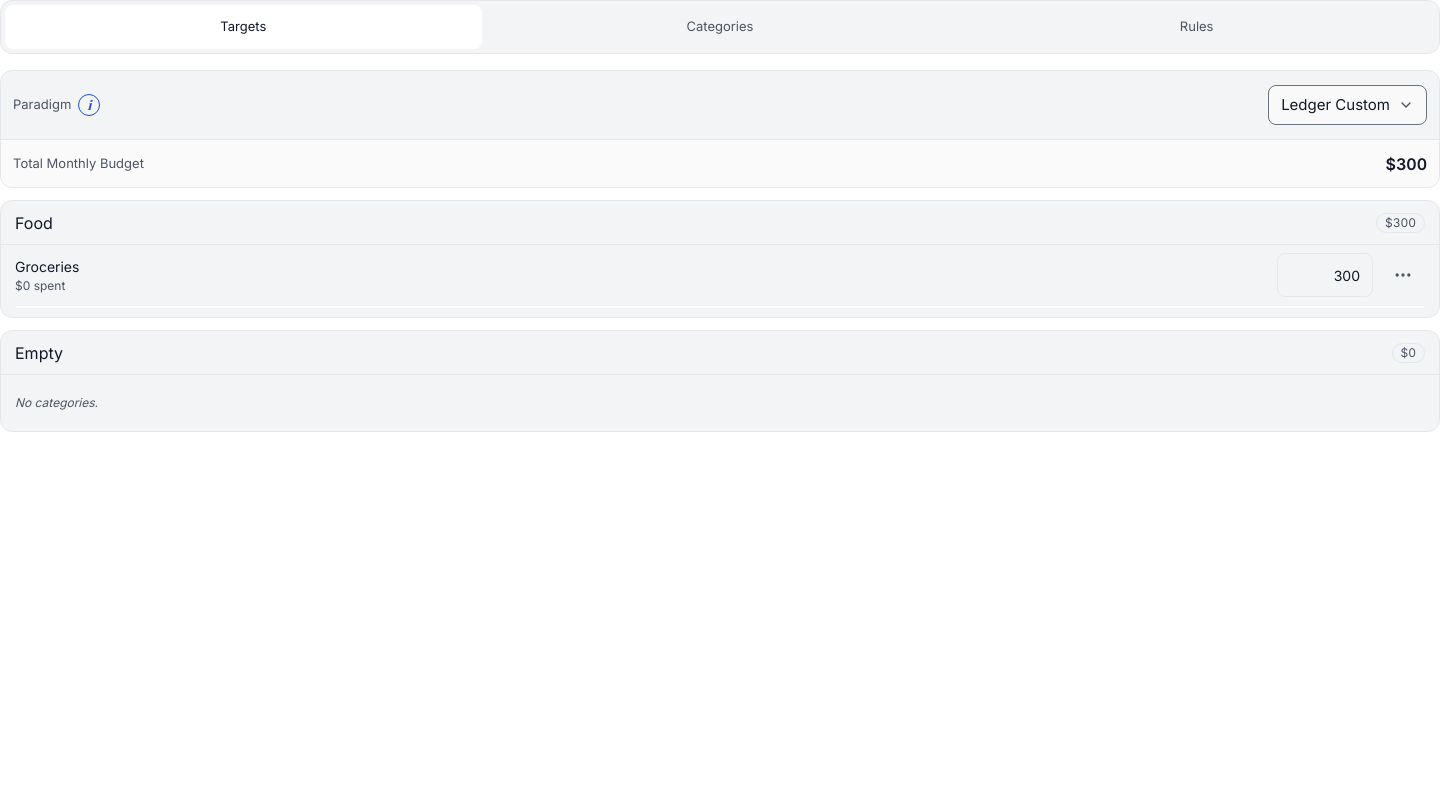
Scenario: BudgetSetupMobile › moves the paradigm description behind an info button that lists every paradigm
Expected: the text "Freeform tracking" is not shown
Click the button named "About budgeting paradigms" at (89, 105), box [67,83,111,127]
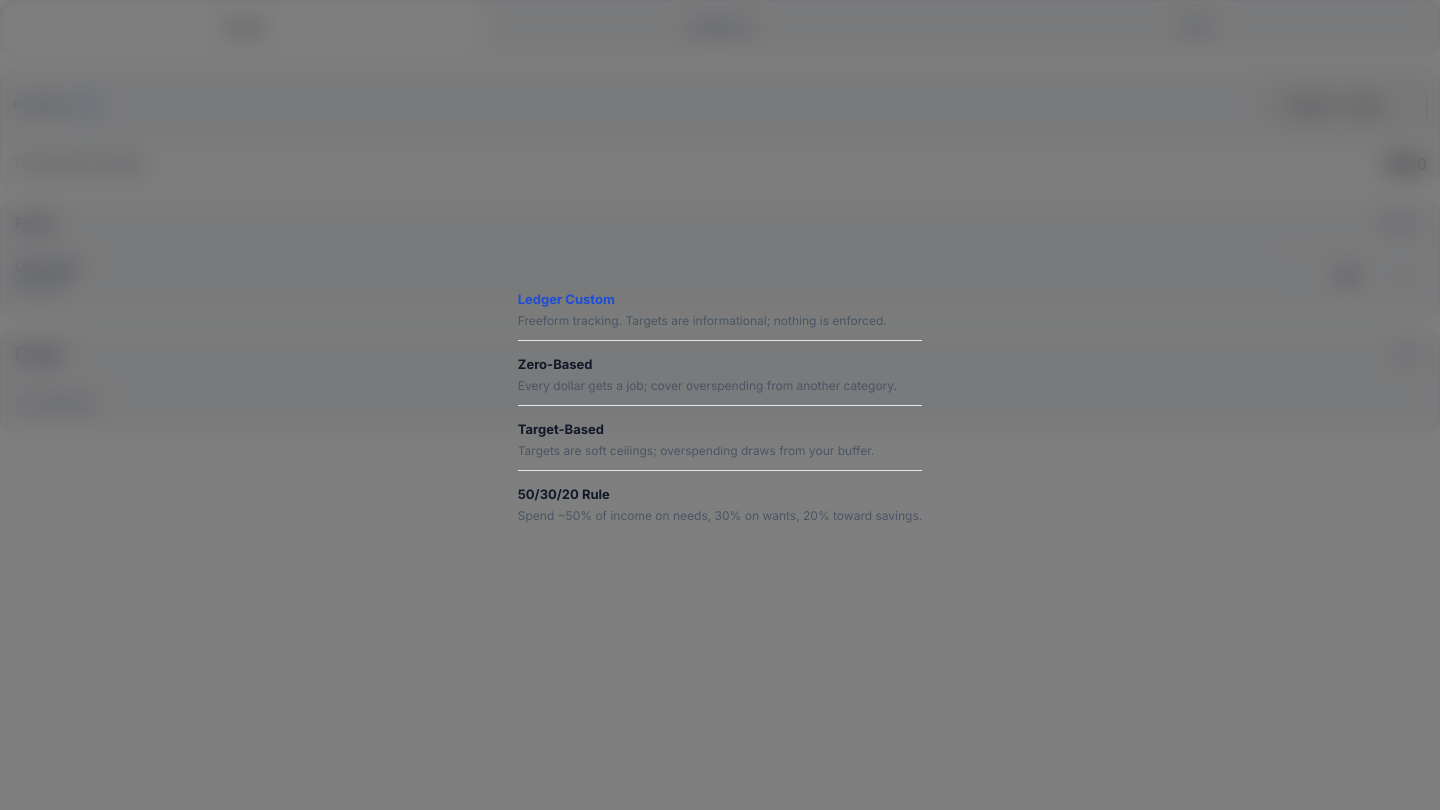
Expected: the text "Freeform tracking" is shown, [518,312,887,328]
Expected: the text "Every dollar gets a job" is shown, [518,378,897,392]
